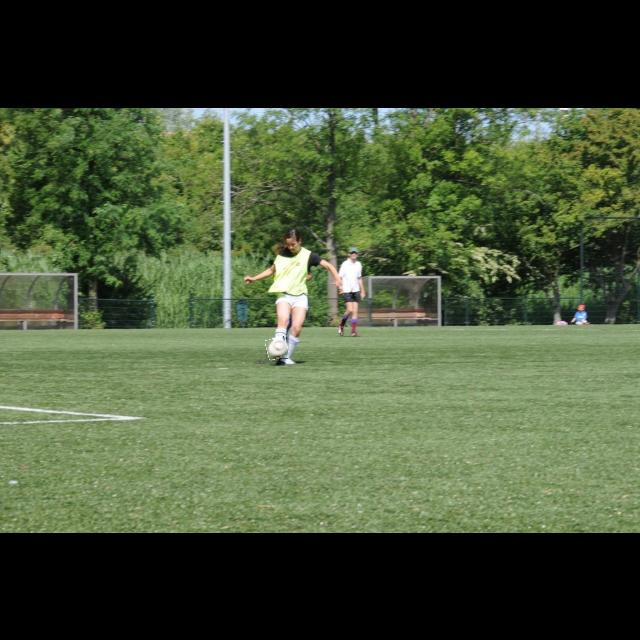Football: (266, 337, 288, 359)
